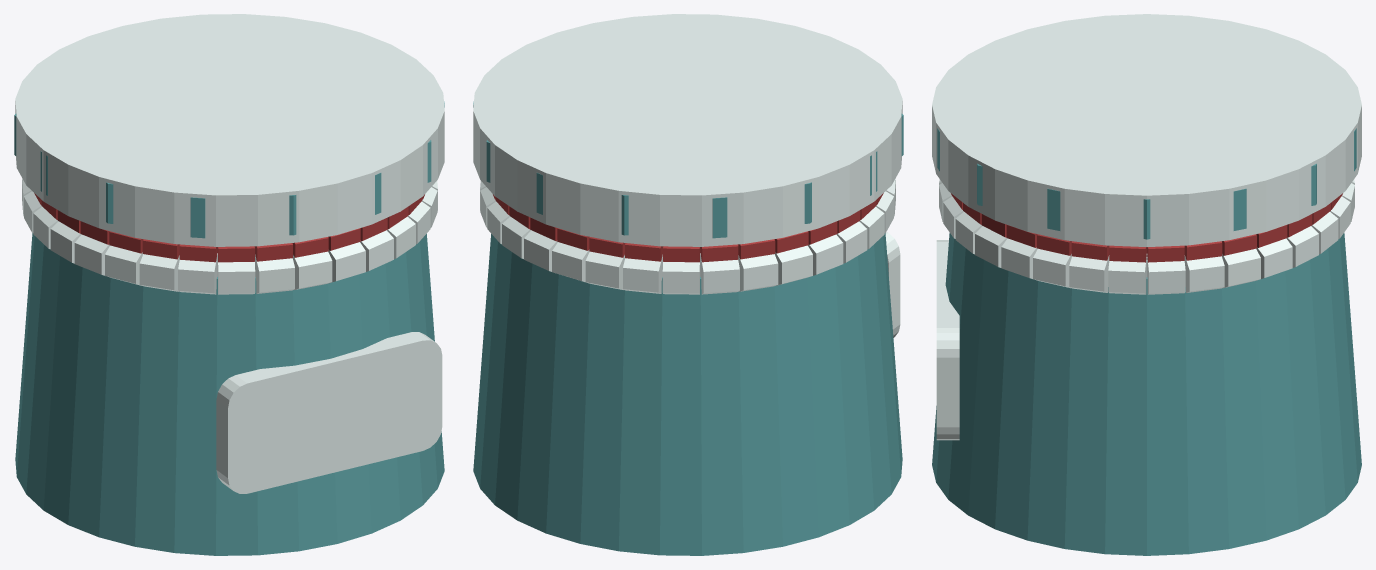
The model's file is sealjar.glb.
The picture shows the model from 3 angles, left to right: view 1: azimuth 30°, elevation 25°; view 2: azimuth 150°, elevation 25°; view 3: azimuth 270°, elevation 25°; orthographic projection.
Parts seen in each view (by area): view 1: jar base, lid, label, shoulder11, shoulder9, shoulder12, shoulder10, shoulder8, shoulder13, shoulder7, shoulder14, shoulder6 (+10 smaller); view 2: jar base, lid, shoulder20, shoulder22, shoulder19, shoulder21, shoulder23, shoulder18, label, shoulder24, shoulder17, shoulder25 (+10 smaller); view 3: jar base, lid, label, shoulder1, shoulder30, shoulder0, shoulder31, shoulder2, shoulder29, shoulder3, shoulder28, shoulder4 (+11 smaller).
Boxes of the visible parts, x1,y1,x2,y2 form: jar base: [15, 233, 444, 555]; lid: [15, 14, 444, 246]; label: [216, 332, 442, 493]; shoulder11: [178, 254, 217, 294]; shoulder9: [255, 254, 294, 293]; shoulder12: [139, 254, 179, 291]; shoulder10: [217, 253, 255, 294]; shoulder8: [292, 251, 332, 289]; shoulder13: [105, 245, 143, 285]; shoulder7: [328, 242, 365, 283]; shoulder14: [74, 234, 109, 275]; shoulder6: [360, 230, 393, 271]; jar base: [473, 233, 902, 555]; lid: [473, 14, 902, 246]; shoulder20: [700, 254, 739, 294]; shoulder22: [623, 254, 662, 293]; shoulder19: [738, 254, 778, 291]; shoulder21: [662, 253, 700, 294]; shoulder23: [585, 251, 625, 289]; shoulder18: [774, 245, 812, 285]; label: [885, 232, 900, 337]; shoulder24: [552, 242, 589, 283]; shoulder17: [808, 234, 843, 275]; shoulder25: [524, 230, 557, 271]; jar base: [932, 233, 1361, 555]; lid: [932, 14, 1361, 246]; label: [936, 240, 959, 440]; shoulder1: [1069, 255, 1109, 292]; shoulder30: [1184, 255, 1224, 292]; shoulder0: [1108, 254, 1146, 294]; shoulder31: [1147, 254, 1185, 294]; shoulder2: [1033, 248, 1071, 288]; shoulder29: [1222, 248, 1260, 288]; shoulder3: [1001, 238, 1037, 278]; shoulder28: [1256, 238, 1292, 278]; shoulder4: [975, 226, 1007, 267].
Bounding box in the file's own units: 1.06 × 0.98 × 1.06.
